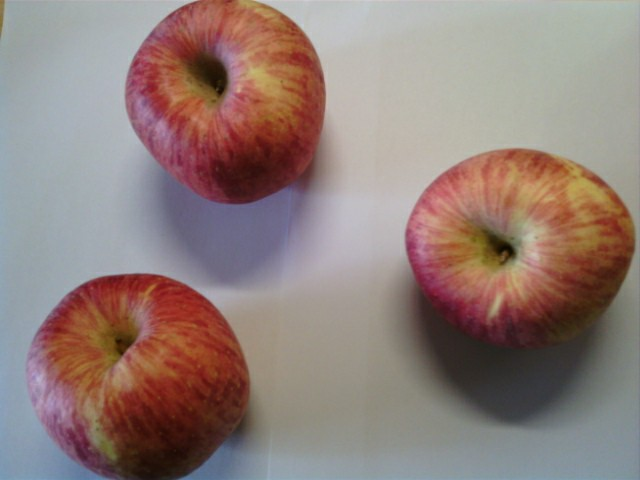normal_apple: (405, 147, 640, 351), (24, 271, 252, 480), (124, 1, 326, 205)
